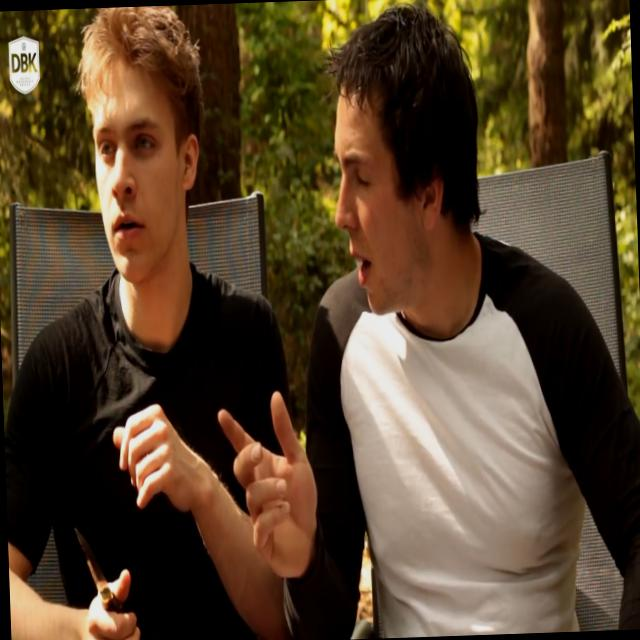knife: (62, 505, 148, 639)
